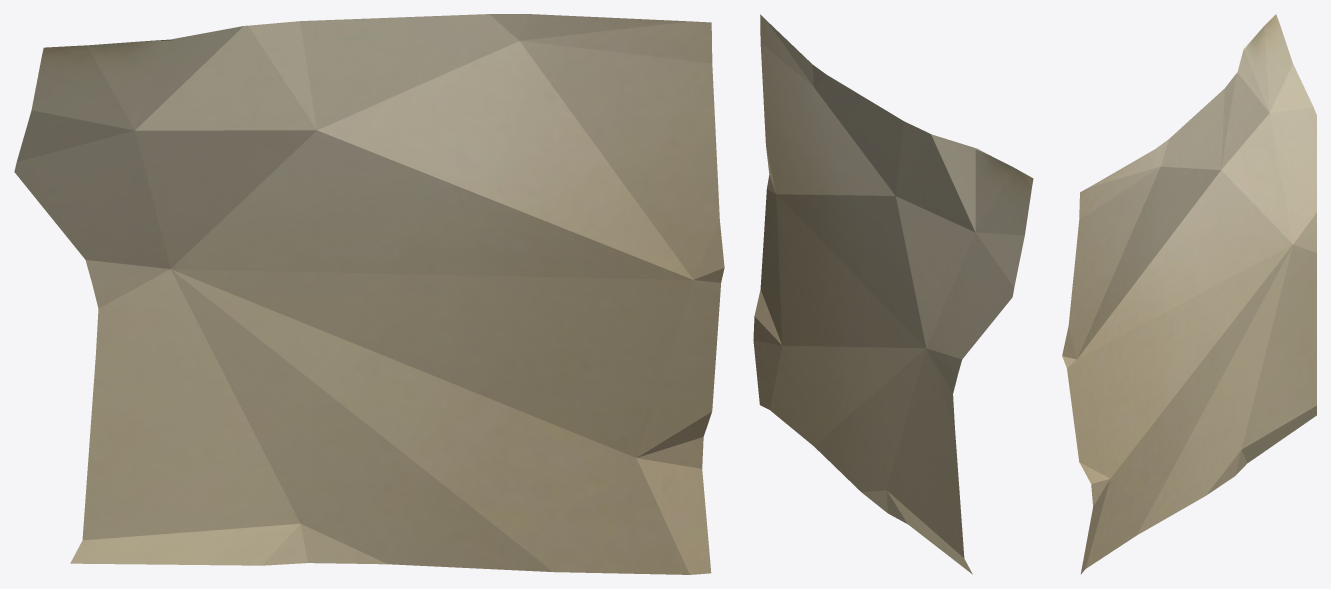
3 views of the same model, side by side, from view 1: azimuth 30°, elevation 25°; view 2: azimuth 150°, elevation 25°; view 3: azimuth 270°, elevation 25° (orthographic). The views are drawn at different scales.
Bounding box in the file's own units: 1.67 × 1.67 × 1.01.
3 materials, 3 textured.
